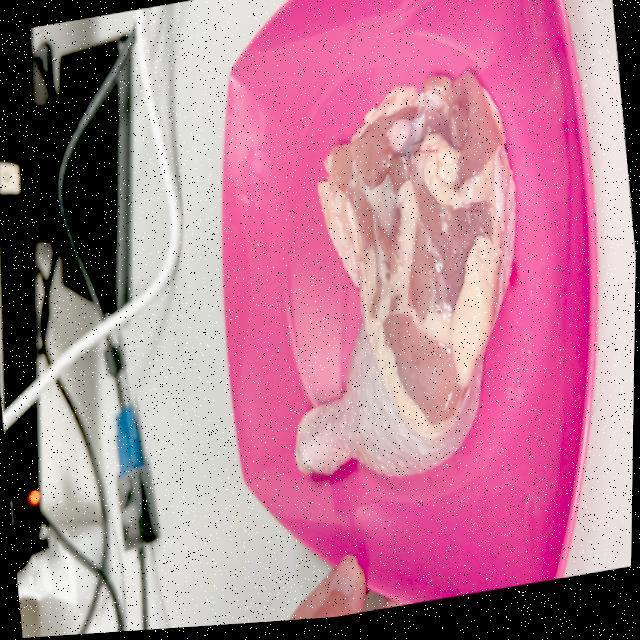quater: (280, 74, 519, 484)
